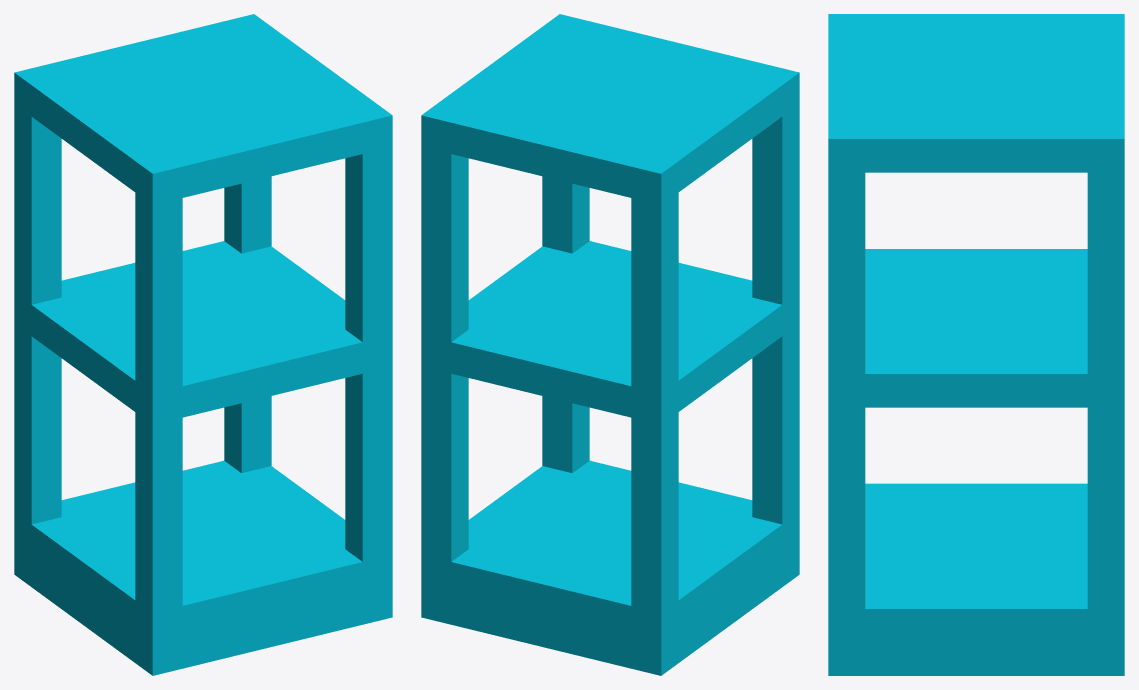
File: Mini Multilevel Display Shelf.glb
3 renders of one model, left to right at view 1: azimuth 30°, elevation 25°; view 2: azimuth 150°, elevation 25°; view 3: azimuth 270°, elevation 25°, orthographic. The views are drawn at different scales.
Visible parts, largest first — view 1: Base, Top, Shelf, Support 1, Support 2, Support 4, Support 3; view 2: Base, Top, Shelf, Support 4, Support 3, Support 1, Support 2; view 3: Top, Base, Shelf, Support 2, Support 3.
Boxes of the visible parts, x1=… form: Base: x1=14, y1=460, x2=392, y2=675; Top: x1=14, y1=14, x2=392, y2=204; Shelf: x1=14, y1=241, x2=381, y2=424; Support 1: x1=135, y1=154, x2=182, y2=675; Support 2: x1=345, y1=103, x2=392, y2=619; Support 4: x1=14, y1=65, x2=61, y2=586; Support 3: x1=224, y1=14, x2=271, y2=473; Base: x1=421, y1=460, x2=799, y2=675; Top: x1=421, y1=14, x2=799, y2=204; Shelf: x1=421, y1=241, x2=799, y2=424; Support 4: x1=631, y1=154, x2=678, y2=675; Support 3: x1=421, y1=105, x2=468, y2=621; Support 1: x1=752, y1=65, x2=799, y2=584; Support 2: x1=542, y1=14, x2=589, y2=473; Top: x1=828, y1=14, x2=1124, y2=172; Base: x1=829, y1=483, x2=1124, y2=675; Shelf: x1=828, y1=249, x2=1124, y2=407; Support 2: x1=828, y1=123, x2=865, y2=675; Support 3: x1=1087, y1=125, x2=1124, y2=675.
Bounding box in the file's own units: 25.4 × 50.8 × 25.4.
